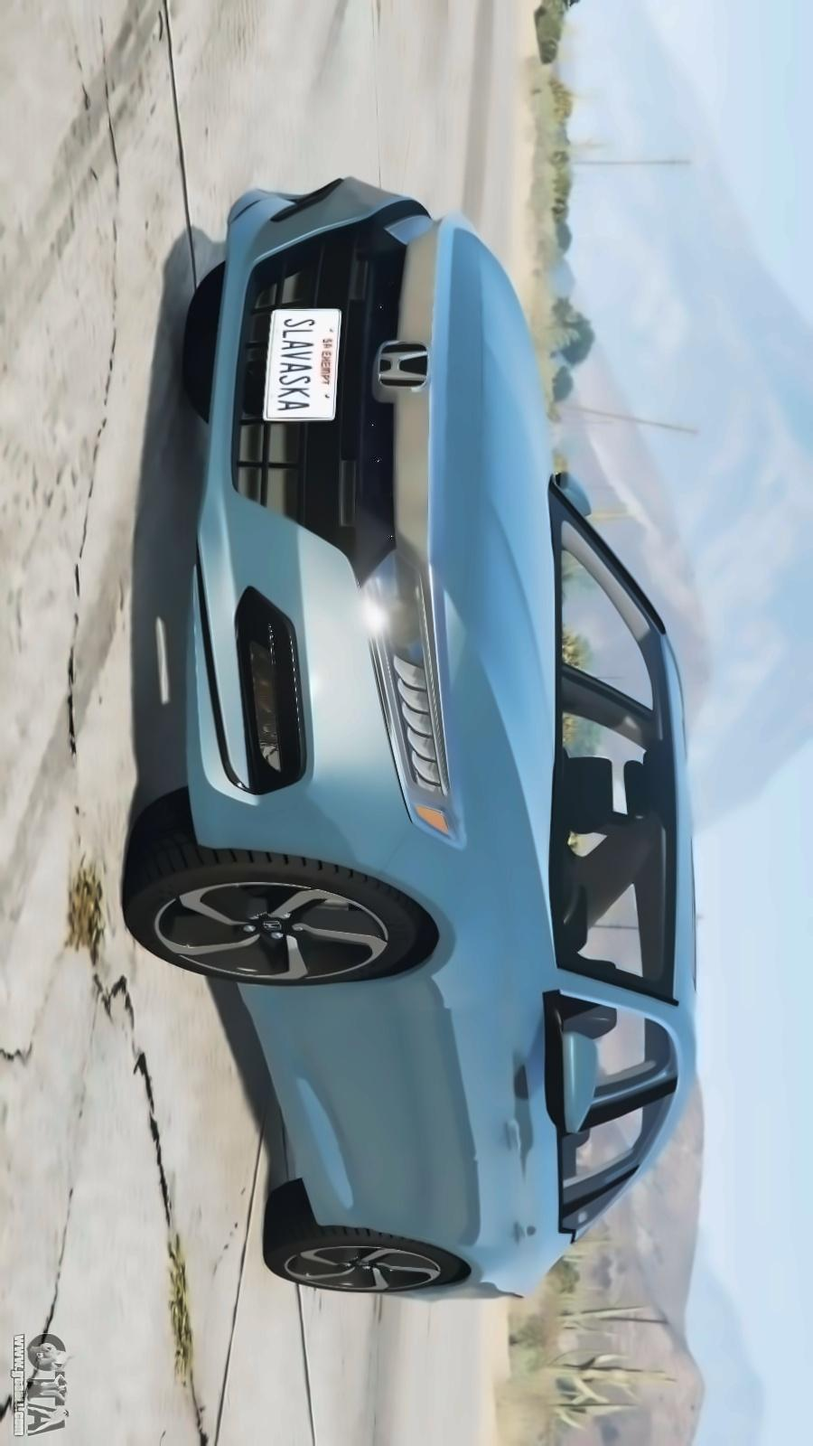Car hood: (418, 199, 545, 899)
Fender - -F-L-: (210, 791, 591, 1068)
Front bumper: (165, 156, 414, 883)
Headlight - -L-: (359, 522, 470, 851)
Passenger-s door - -F-L-: (206, 951, 695, 1142)
Passenger-s door - -R-L-: (278, 1082, 721, 1261)
Side bumper - -L-: (224, 951, 360, 1240)
Side mirror - -L-: (524, 960, 607, 1142)
